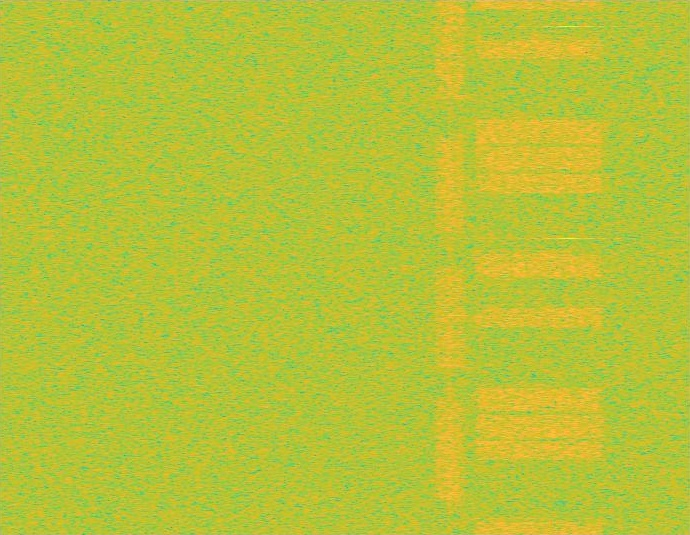5G: (433, 0, 467, 534)
DSSS: (448, 0, 453, 534)
LTE: (470, 0, 608, 534)
Radar: (562, 0, 576, 534)
